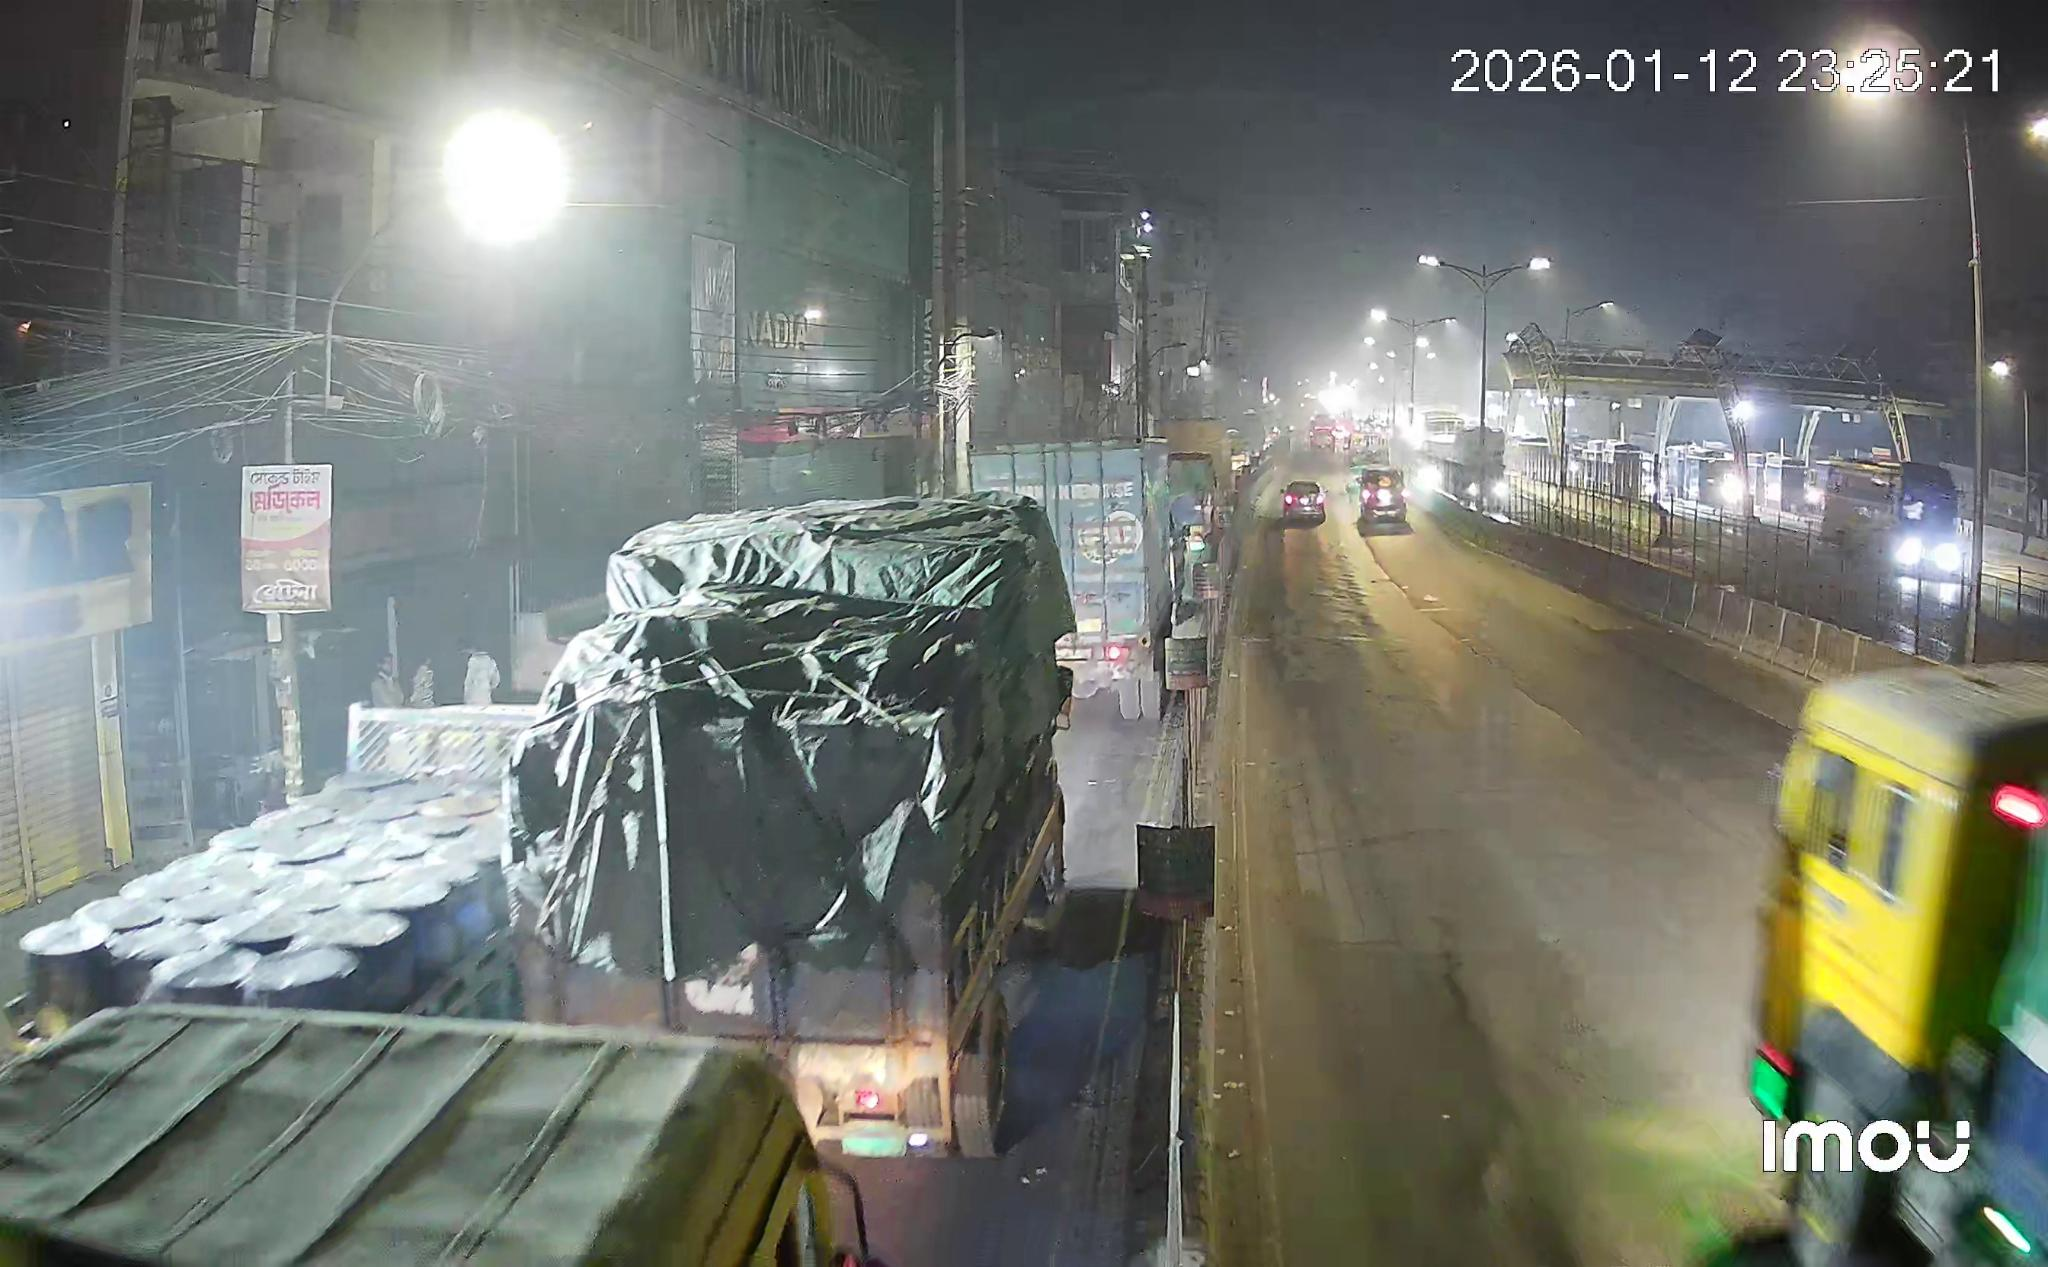Bus: (1808, 459, 1963, 578)
Private-Sedan Car: (1281, 481, 1327, 525)
Truck: (505, 495, 1074, 1153), (1748, 663, 2047, 1267), (0, 707, 531, 1043), (970, 439, 1169, 718)
